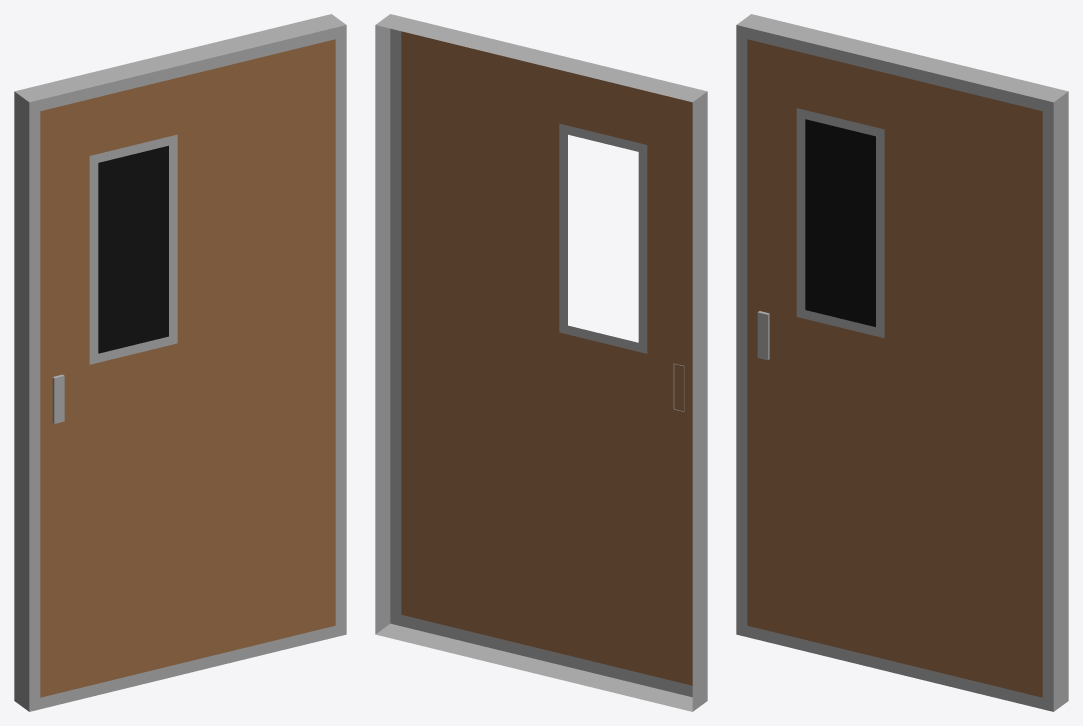
Rendered from Door1.fbx.
The picture shows the model from 3 angles, left to right: view 1: azimuth 30°, elevation 25°; view 2: azimuth 150°, elevation 25°; view 3: azimuth 330°, elevation 25°; orthographic projection.
Parts seen in each view (by area): view 1: Door1; view 2: Door1; view 3: Door1.
Boxes of the visible parts, x1=… form: Door1: x1=14, y1=14, x2=346, y2=711; Door1: x1=375, y1=14, x2=707, y2=711; Door1: x1=736, y1=14, x2=1068, y2=711.
Bounding box in the file's own units: 175 × 321 × 16.15.
